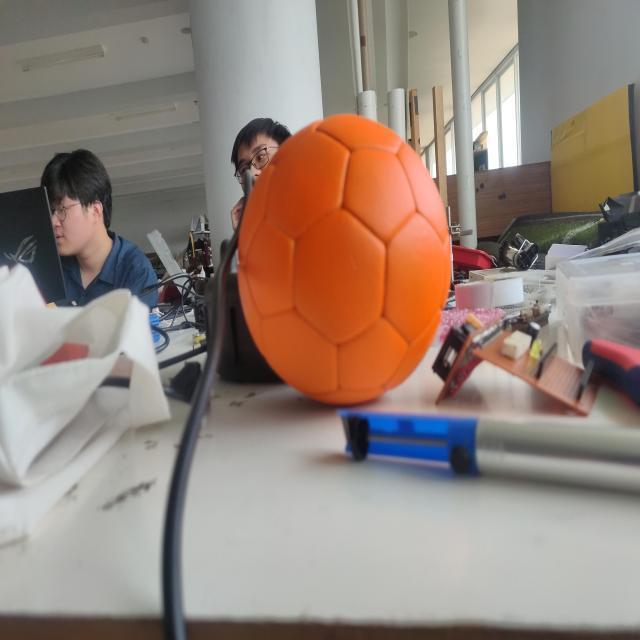bola: (230, 104, 462, 405)
